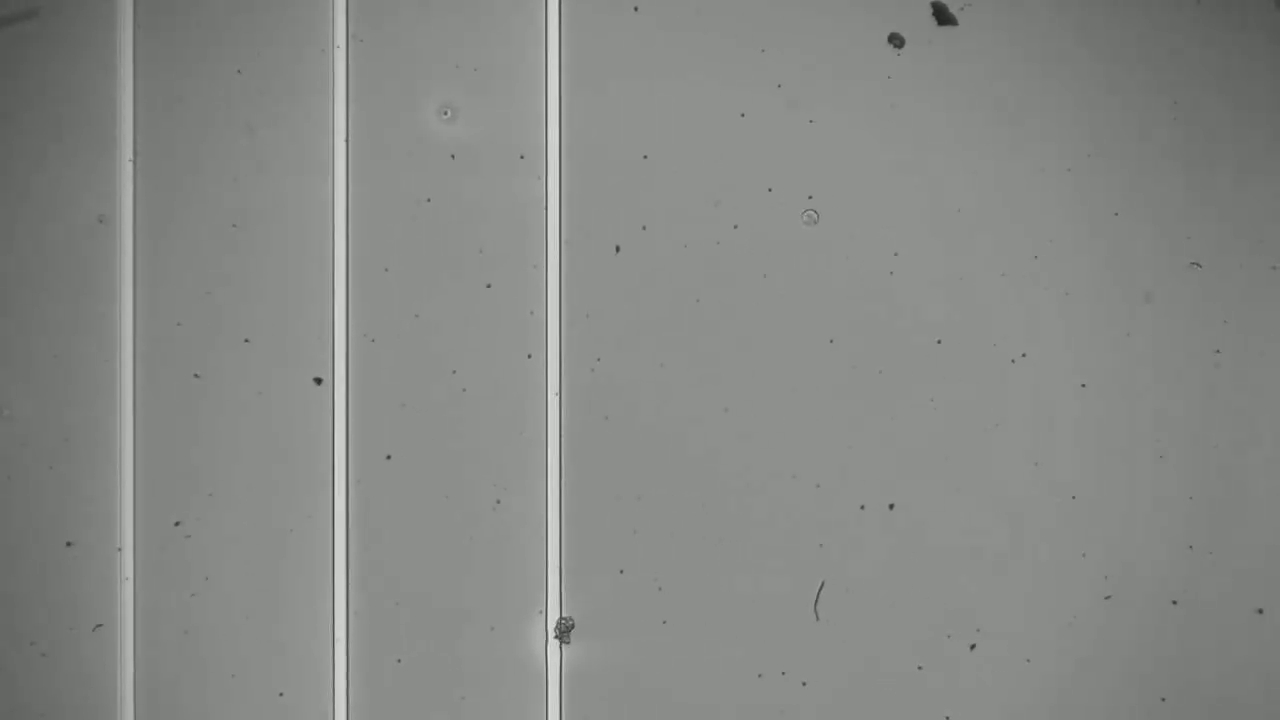stains_enbedded: (531, 608, 584, 652)
